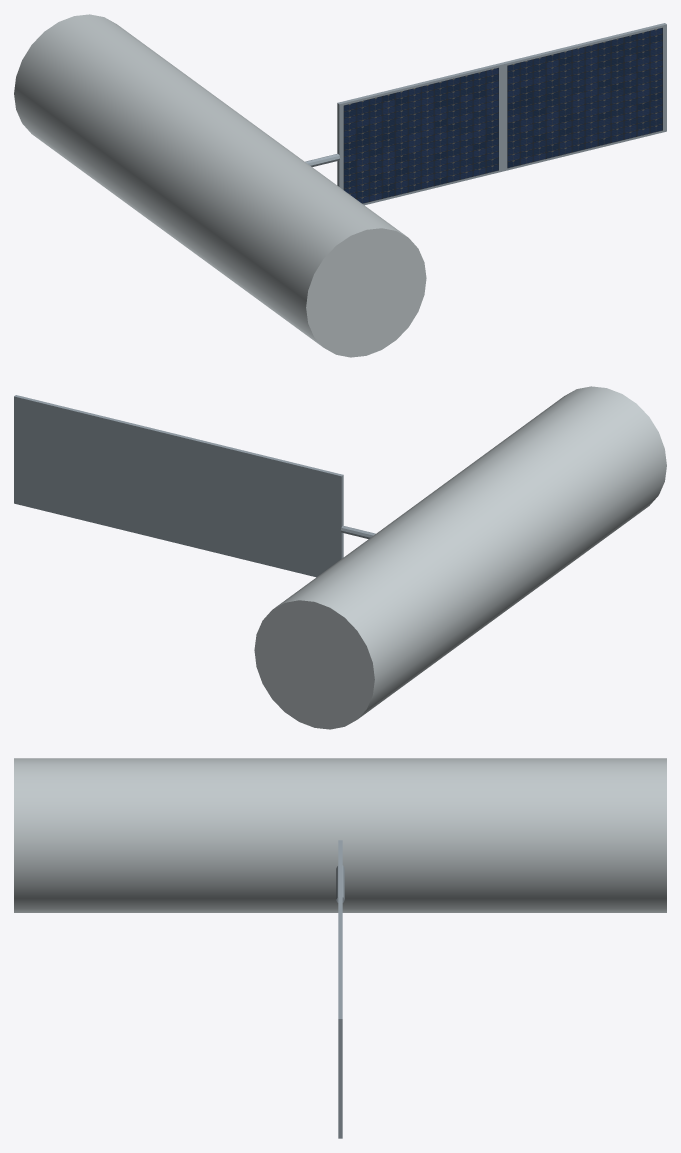
Rendered from ref-cta-22214.glb.
3 renders of one model, top to bottom at view 1: azimuth 30°, elevation 25°; view 2: azimuth 150°, elevation 25°; view 3: azimuth 270°, elevation 25°, orthographic. The views are drawn at different scales.
Parts seen in each view (by area): view 1: Spacecraft body, Photovoltaic laminates (×2), Array frame (×2); view 2: Spacecraft body, Array frame (×2); view 3: Spacecraft body, Array frame.
Part boxes in pixels (bbox=[...]): Spacecraft body: bbox=[14, 14, 426, 357]; Photovoltaic laminates (×2): bbox=[343, 27, 662, 203]; Array frame (×2): bbox=[337, 23, 666, 205]; Spacecraft body: bbox=[254, 386, 666, 729]; Array frame (×2): bbox=[14, 395, 343, 577]; Spacecraft body: bbox=[14, 758, 666, 912]; Array frame: bbox=[338, 929, 342, 1138].
Bounding box in the file's own units: 2.1 × 0.5 × 2.1.
Materials: 3 (1 with a texture image).
